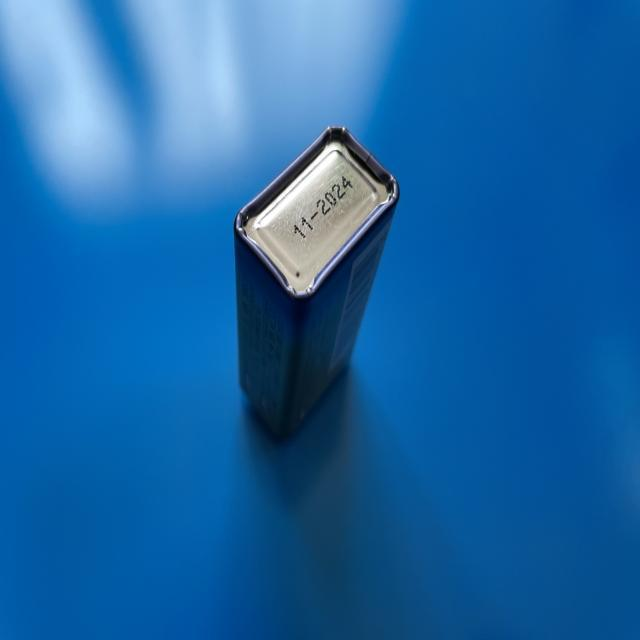9V: (234, 124, 400, 431)
